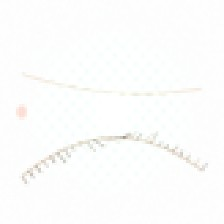corneal_ulcer: (79, 85, 129, 125)
